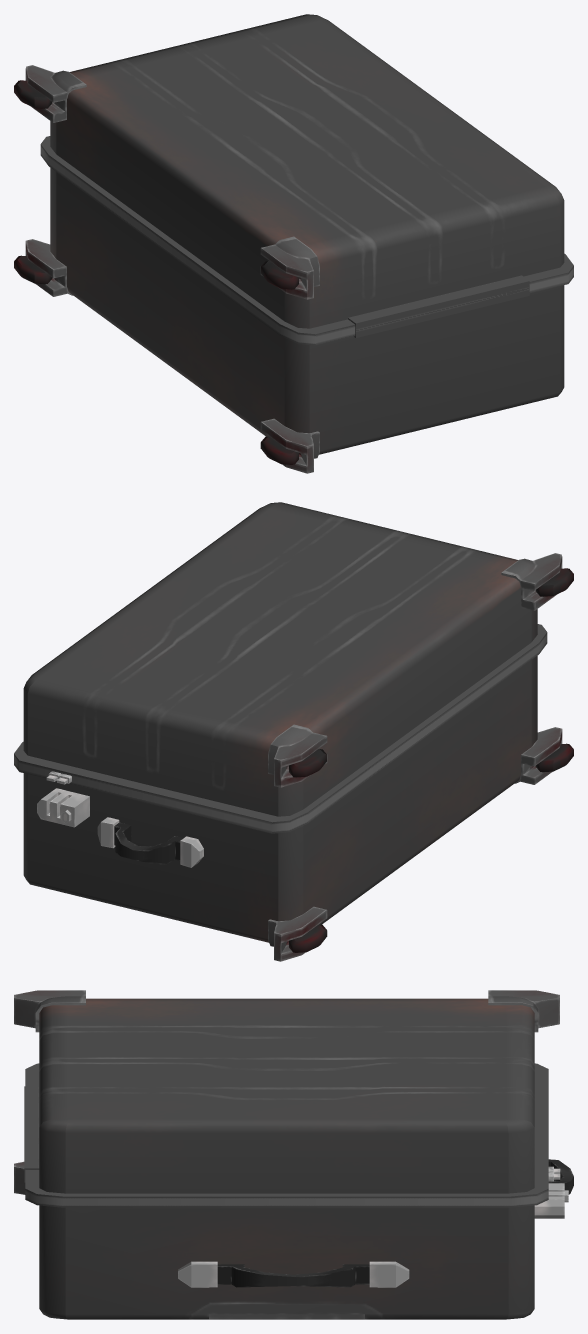
File: suitcase.dae
3 renders of one model, top to bottom at view 1: azimuth 30°, elevation 25°; view 2: azimuth 150°, elevation 25°; view 3: azimuth 270°, elevation 25°, orthographic. The views are drawn at different scales.
Visible parts, largest first — view 1: node0; view 2: node0; view 3: node0.
Boxes of the visible parts, x1,y1,x2,y2 form: node0: (14, 14, 573, 473); node0: (14, 502, 573, 961); node0: (14, 990, 573, 1319).
Bounding box in the file's own units: 0.4 × 0.63 × 0.25.
Materials: 1 (1 with a texture image).
